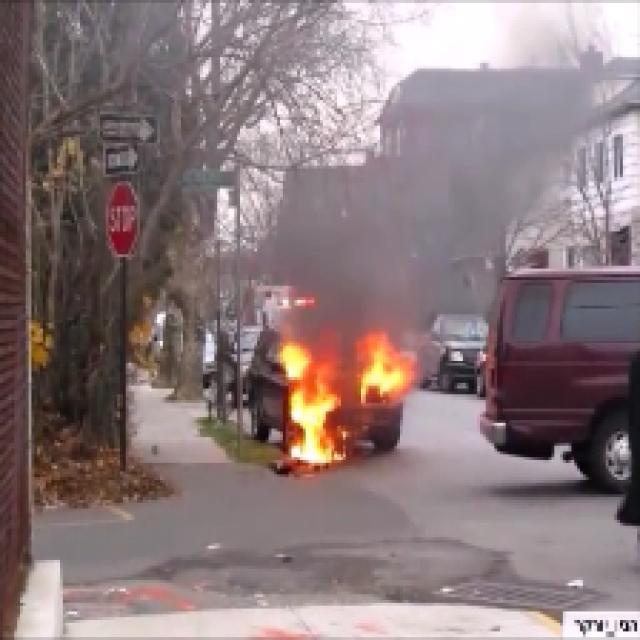Fire: (274, 340, 404, 470)
Smoke: (314, 192, 481, 336), (430, 96, 556, 194)
